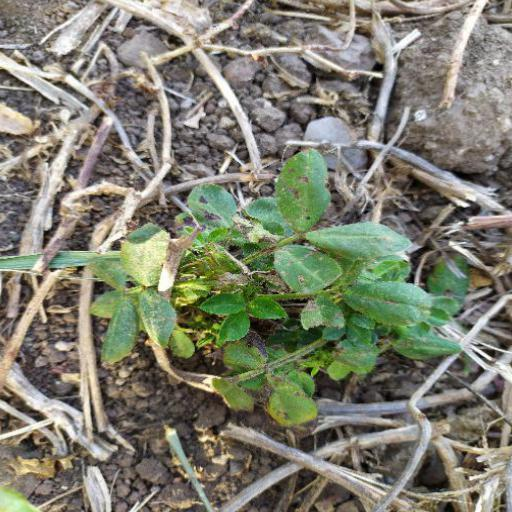weed: (103, 154, 449, 426)
